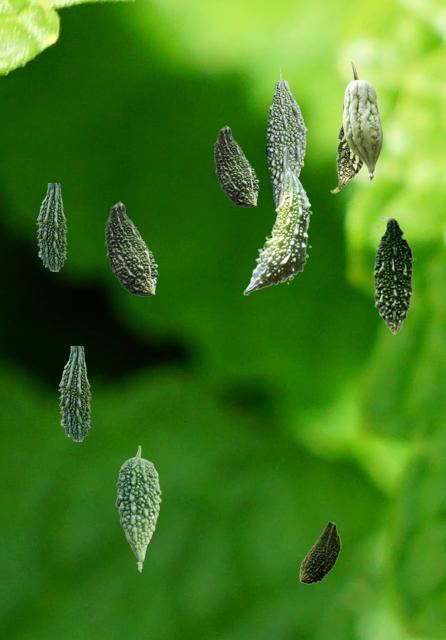ampalaya: (243, 149, 311, 294), (265, 67, 306, 206), (115, 445, 160, 571), (373, 215, 415, 334), (105, 201, 157, 295), (330, 60, 363, 192), (342, 79, 382, 179), (214, 125, 258, 206), (58, 346, 90, 440), (36, 183, 66, 270), (299, 521, 340, 583)
